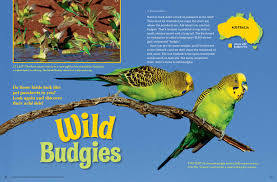budgie: (157, 71, 248, 171), (53, 66, 195, 103)
